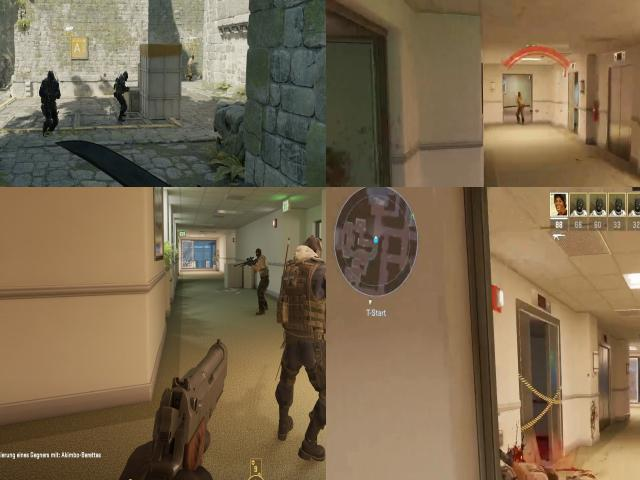CT: (279, 234, 326, 446), (37, 66, 63, 138), (111, 61, 133, 129)
CT-Head: (302, 235, 323, 258), (118, 69, 130, 82), (45, 70, 56, 84)
Dead: (503, 459, 566, 480)
T: (253, 246, 272, 312), (183, 51, 197, 82), (516, 86, 526, 118)
T-Head: (254, 246, 265, 261), (188, 52, 197, 61), (516, 91, 523, 102)
